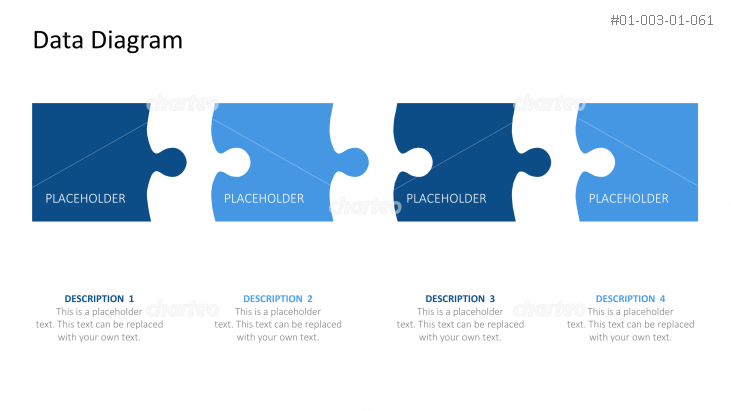puzzle piece: (23, 81, 194, 252), (210, 88, 375, 242), (387, 96, 548, 245), (569, 92, 721, 239)
